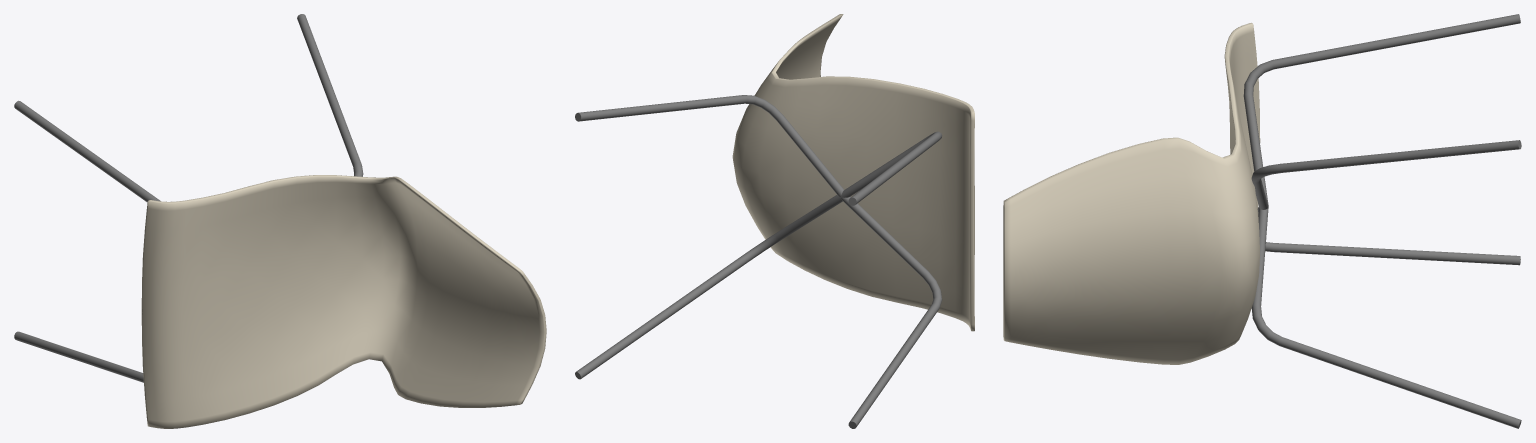
File: chair.obj
The picture shows the model from 3 angles, left to right: view 1: azimuth 30°, elevation 25°; view 2: azimuth 150°, elevation 25°; view 3: azimuth 270°, elevation 25°; orthographic projection. The views are drawn at different scales.
Parts seen in each view (by area): view 1: furniture_megapack_1821, furniture_megapack_1823, furniture_megapack_1822; view 2: furniture_megapack_1821, furniture_megapack_1823, furniture_megapack_1822; view 3: furniture_megapack_1821, furniture_megapack_1822, furniture_megapack_1823.
Boxes of the visible parts, box(x1,y1,x2,y2) form: furniture_megapack_1821: box(141, 175, 546, 428); furniture_megapack_1823: box(14, 14, 363, 382); furniture_megapack_1822: box(14, 100, 160, 202); furniture_megapack_1821: box(732, 14, 974, 331); furniture_megapack_1823: box(575, 95, 942, 428); furniture_megapack_1822: box(575, 131, 942, 379); furniture_megapack_1821: box(1003, 23, 1260, 364); furniture_megapack_1822: box(1243, 14, 1521, 428); furniture_megapack_1823: box(1251, 140, 1521, 265).
Bounding box in the file's own units: 55.24 × 49.86 × 81.28.
